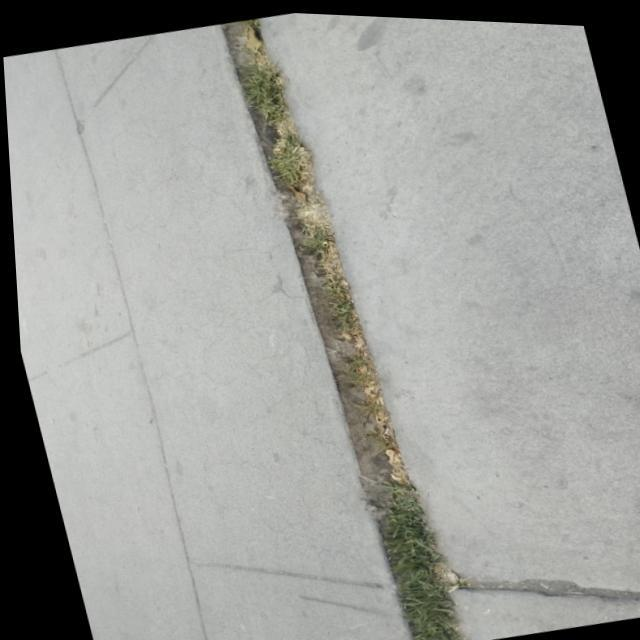hole: (217, 8, 463, 640)
